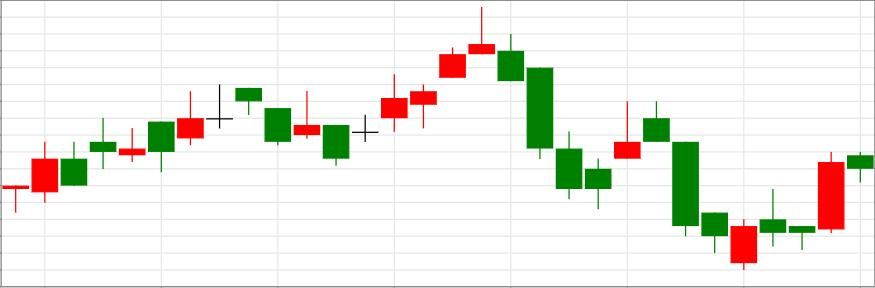three_black_crows_fall: (352, 6, 583, 199)
